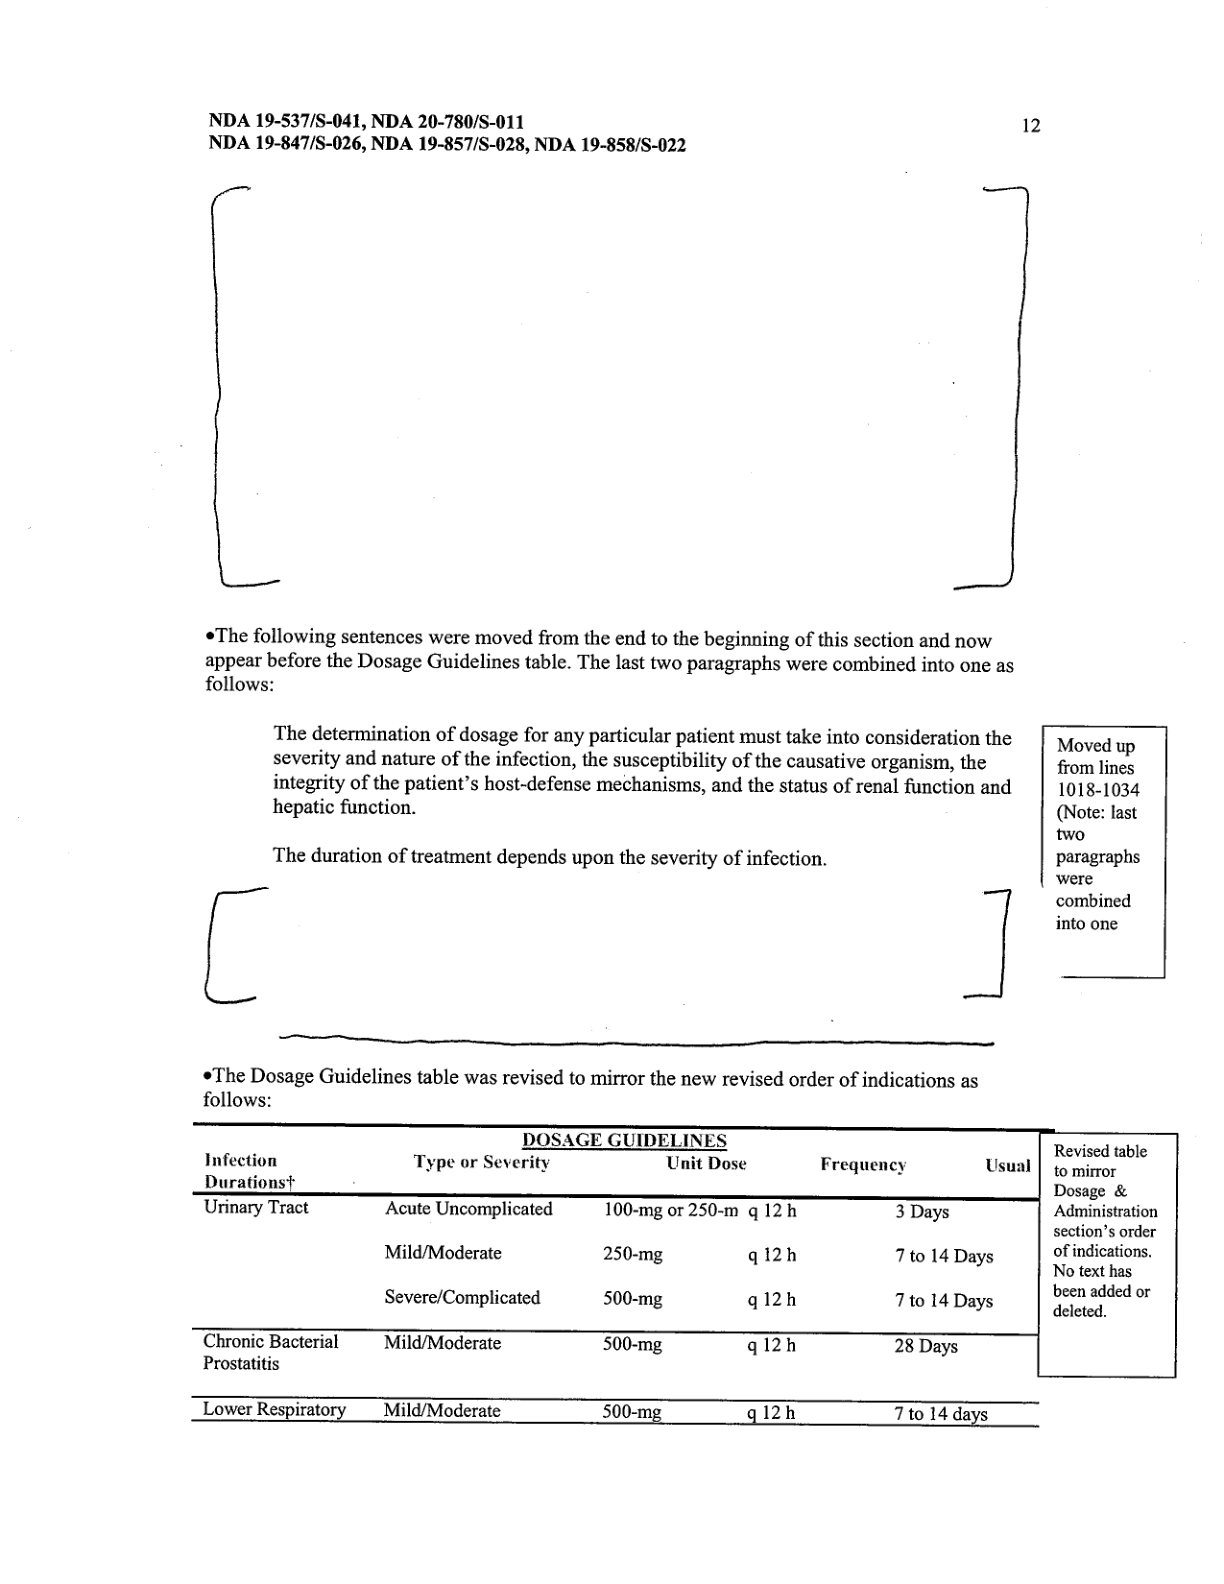partial_lined_merged_cells: (189, 1119, 1182, 1428)
